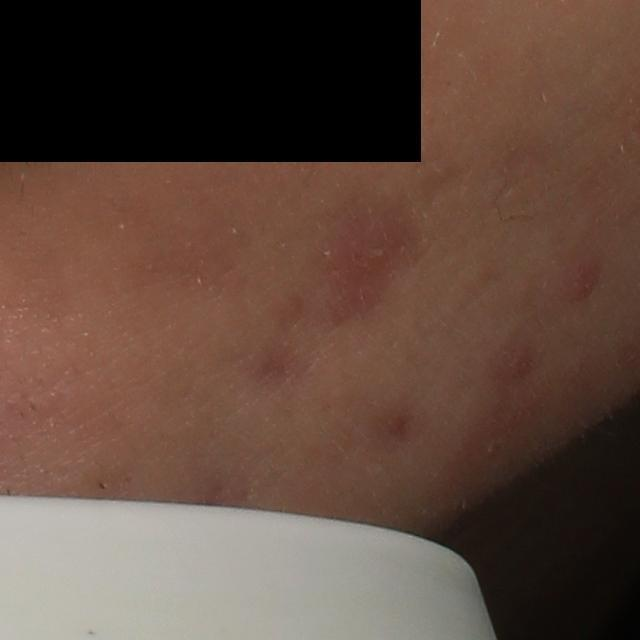papule: (564, 263, 599, 307)
